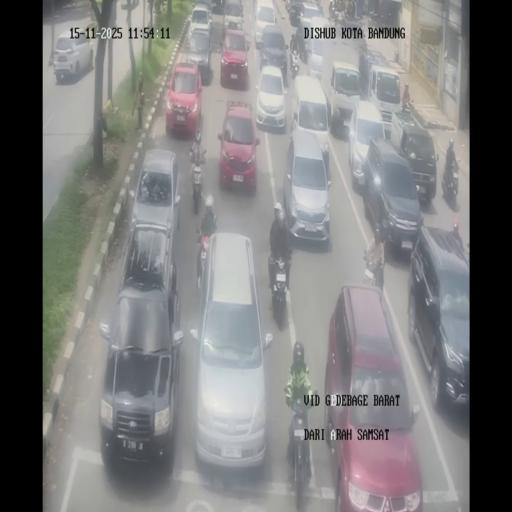car: (324, 283, 422, 505), (192, 233, 270, 474), (96, 284, 182, 480), (408, 229, 469, 416), (128, 147, 181, 249), (390, 110, 438, 202), (218, 100, 259, 194), (291, 74, 330, 165), (348, 99, 386, 188), (166, 61, 203, 136), (329, 60, 361, 134), (53, 27, 93, 82), (257, 24, 289, 82), (220, 28, 250, 88), (185, 27, 213, 82), (297, 3, 326, 46), (222, 0, 244, 32), (191, 1, 212, 26), (287, 0, 302, 27), (210, 0, 226, 16)
truck: (286, 393, 316, 507), (267, 250, 292, 328), (195, 224, 214, 296), (187, 146, 207, 212), (441, 154, 460, 203), (448, 230, 469, 270), (364, 255, 385, 289), (354, 19, 368, 49), (289, 44, 300, 78), (401, 94, 413, 114), (369, 2, 380, 22), (328, 1, 338, 22), (346, 0, 354, 18), (314, 0, 323, 12), (285, 0, 290, 13)
